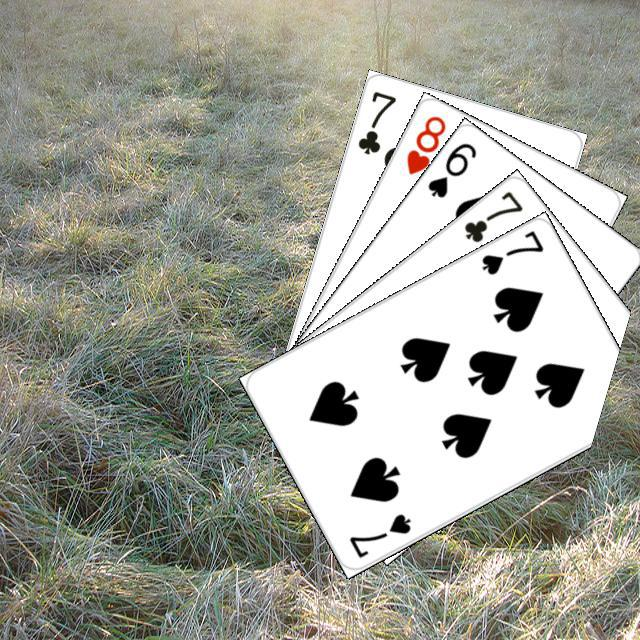6s: (422, 137, 479, 200)
7c: (459, 185, 525, 245), (352, 86, 398, 157)
7s: (476, 225, 545, 277), (344, 508, 413, 560)
8h: (401, 110, 448, 177)
